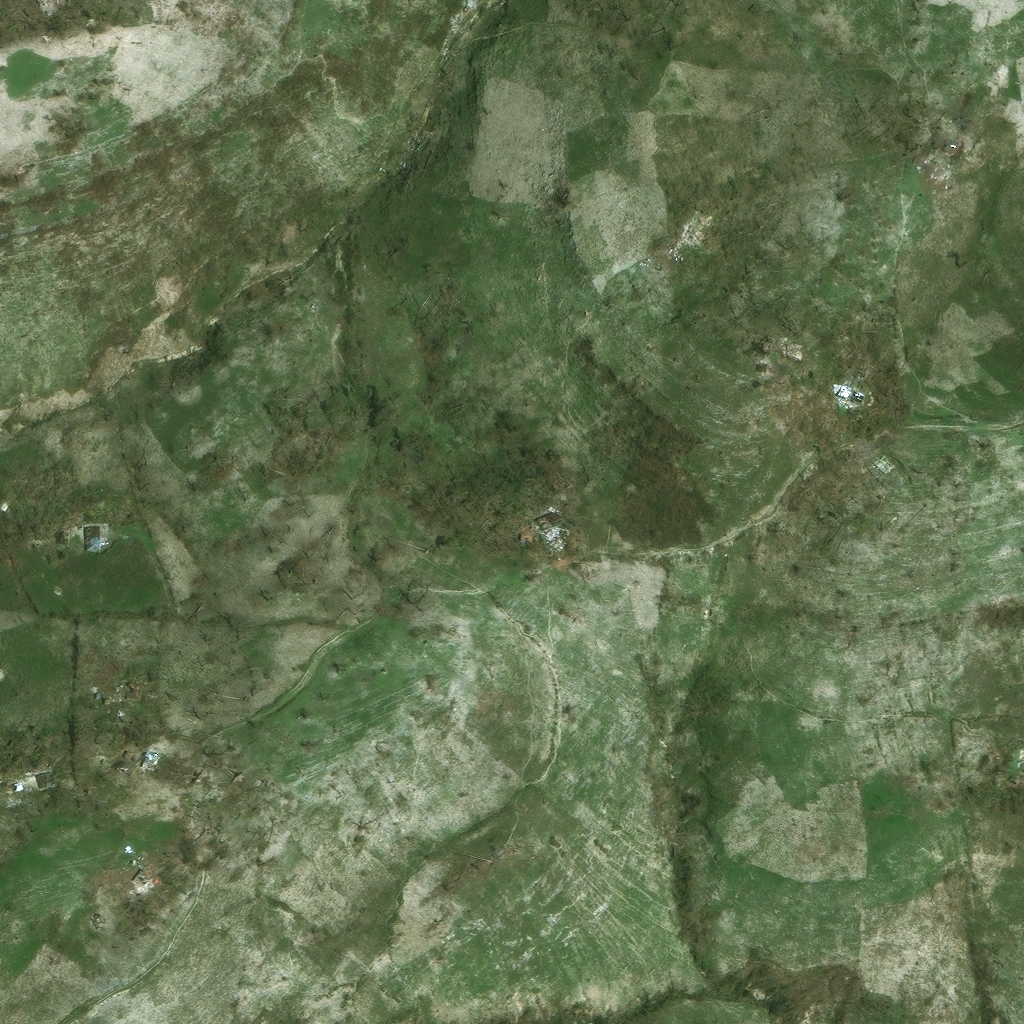destroyed: (693, 218, 718, 238), (112, 876, 133, 898), (934, 162, 954, 181), (139, 752, 157, 770), (518, 529, 536, 547), (867, 458, 884, 477), (845, 386, 864, 402), (8, 657, 25, 674), (22, 0, 37, 13), (778, 348, 794, 359), (749, 363, 760, 373), (104, 906, 114, 917), (86, 513, 96, 523), (862, 362, 870, 373), (1002, 779, 1011, 788), (26, 773, 36, 781), (755, 346, 765, 353)
major_damage: (538, 508, 564, 529)
minor_damage: (48, 764, 67, 780), (110, 511, 125, 527)
unclassified: (951, 101, 974, 121), (709, 207, 722, 217)
